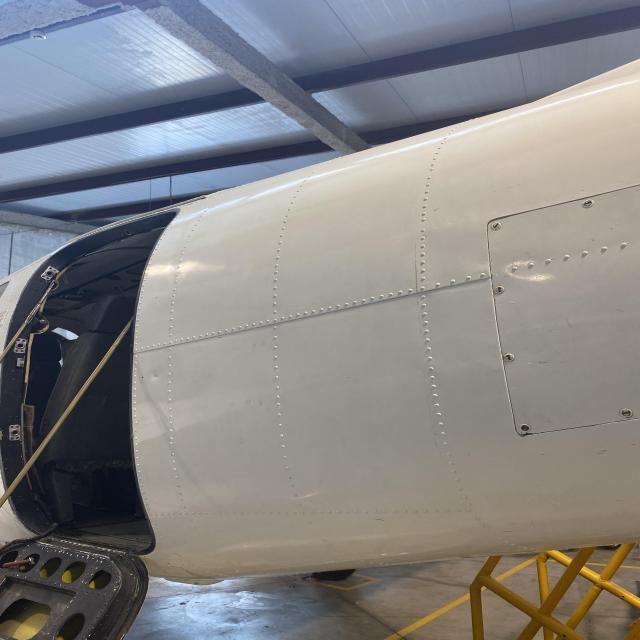Dent: (149, 368, 166, 380)
